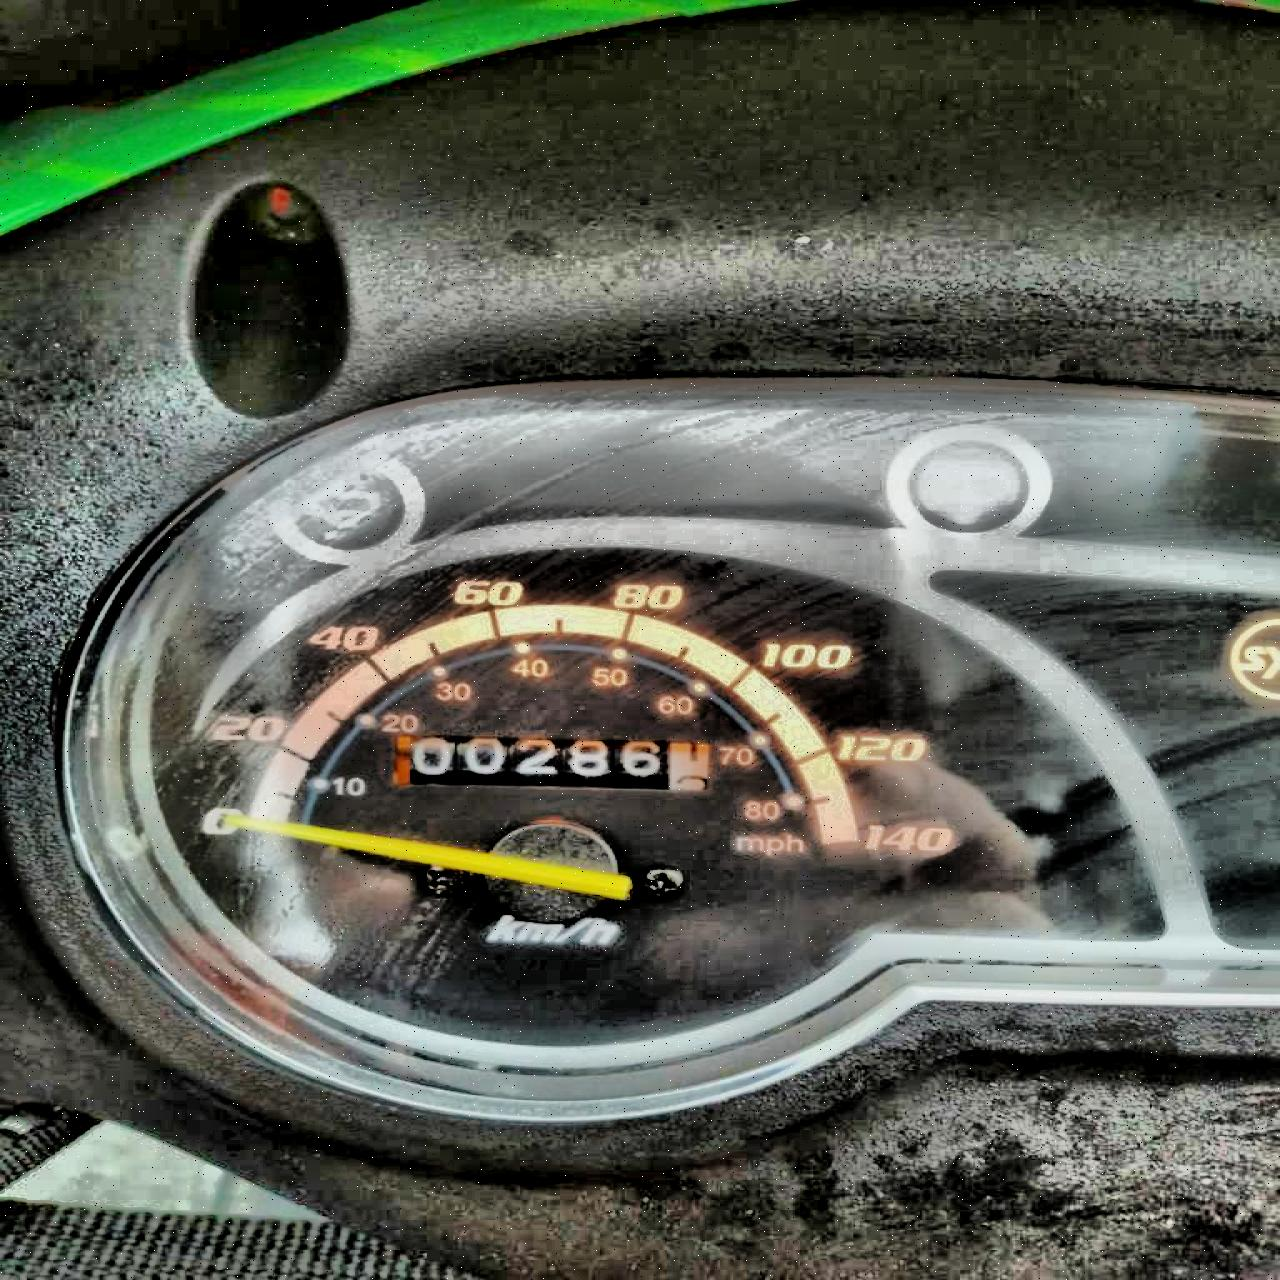0: (410, 735, 451, 775), (462, 736, 503, 774)
1: (675, 740, 707, 761)
2: (513, 737, 557, 774)
6: (618, 738, 660, 776)
8: (567, 738, 608, 776)
odometer: (383, 730, 719, 794)
